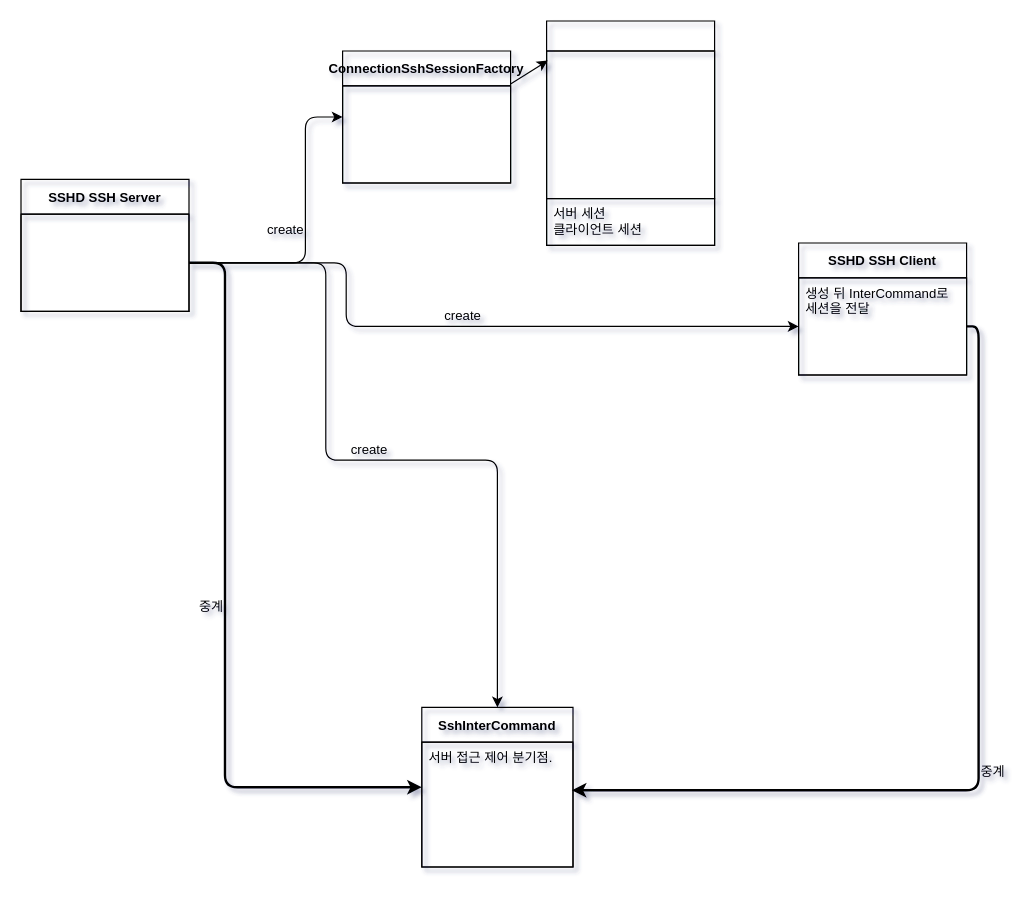
This 1033x899 diagram has some shape labels left out. The box of each missing label's shape, as (x1, y1, x2, y2) in pixels:
Auth 요청 시, InterCommand로 ServerSession을 전달한다.: (20, 213, 189, 311)
Connection{Protocol}Session: (545, 20, 715, 245)
SessionID를 토대로 모든 곳에서 참조하여 사용하는 객체: (341, 85, 511, 183)
SSH프로토콜 한정해서 ConnectInfo 확장해서 쓰는 정보 객체 SAC_AUTH DB테이블 클라이언트 세션, 서버 세션 매핑되는 곳: (545, 50, 715, 199)
